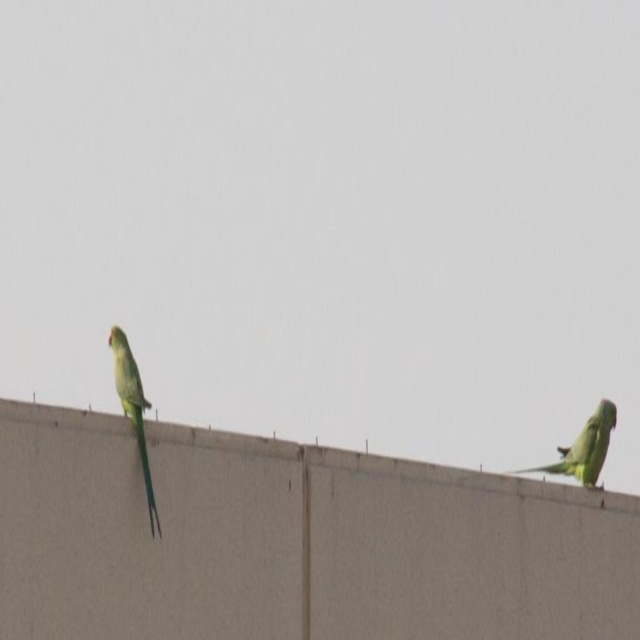Parrot: (501, 381, 616, 484), (103, 322, 156, 542)
